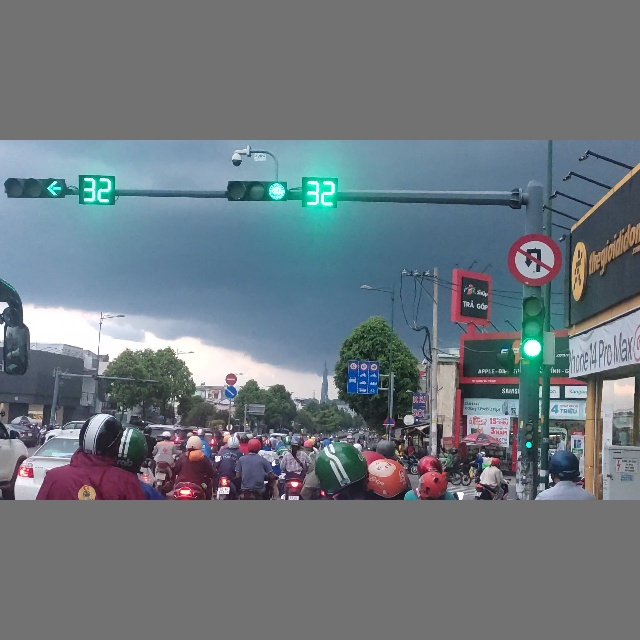P.102: (225, 373, 237, 385)
P.124a*: (507, 233, 563, 286)
R.302a: (224, 386, 237, 399)
R.415a: (347, 360, 379, 395)
